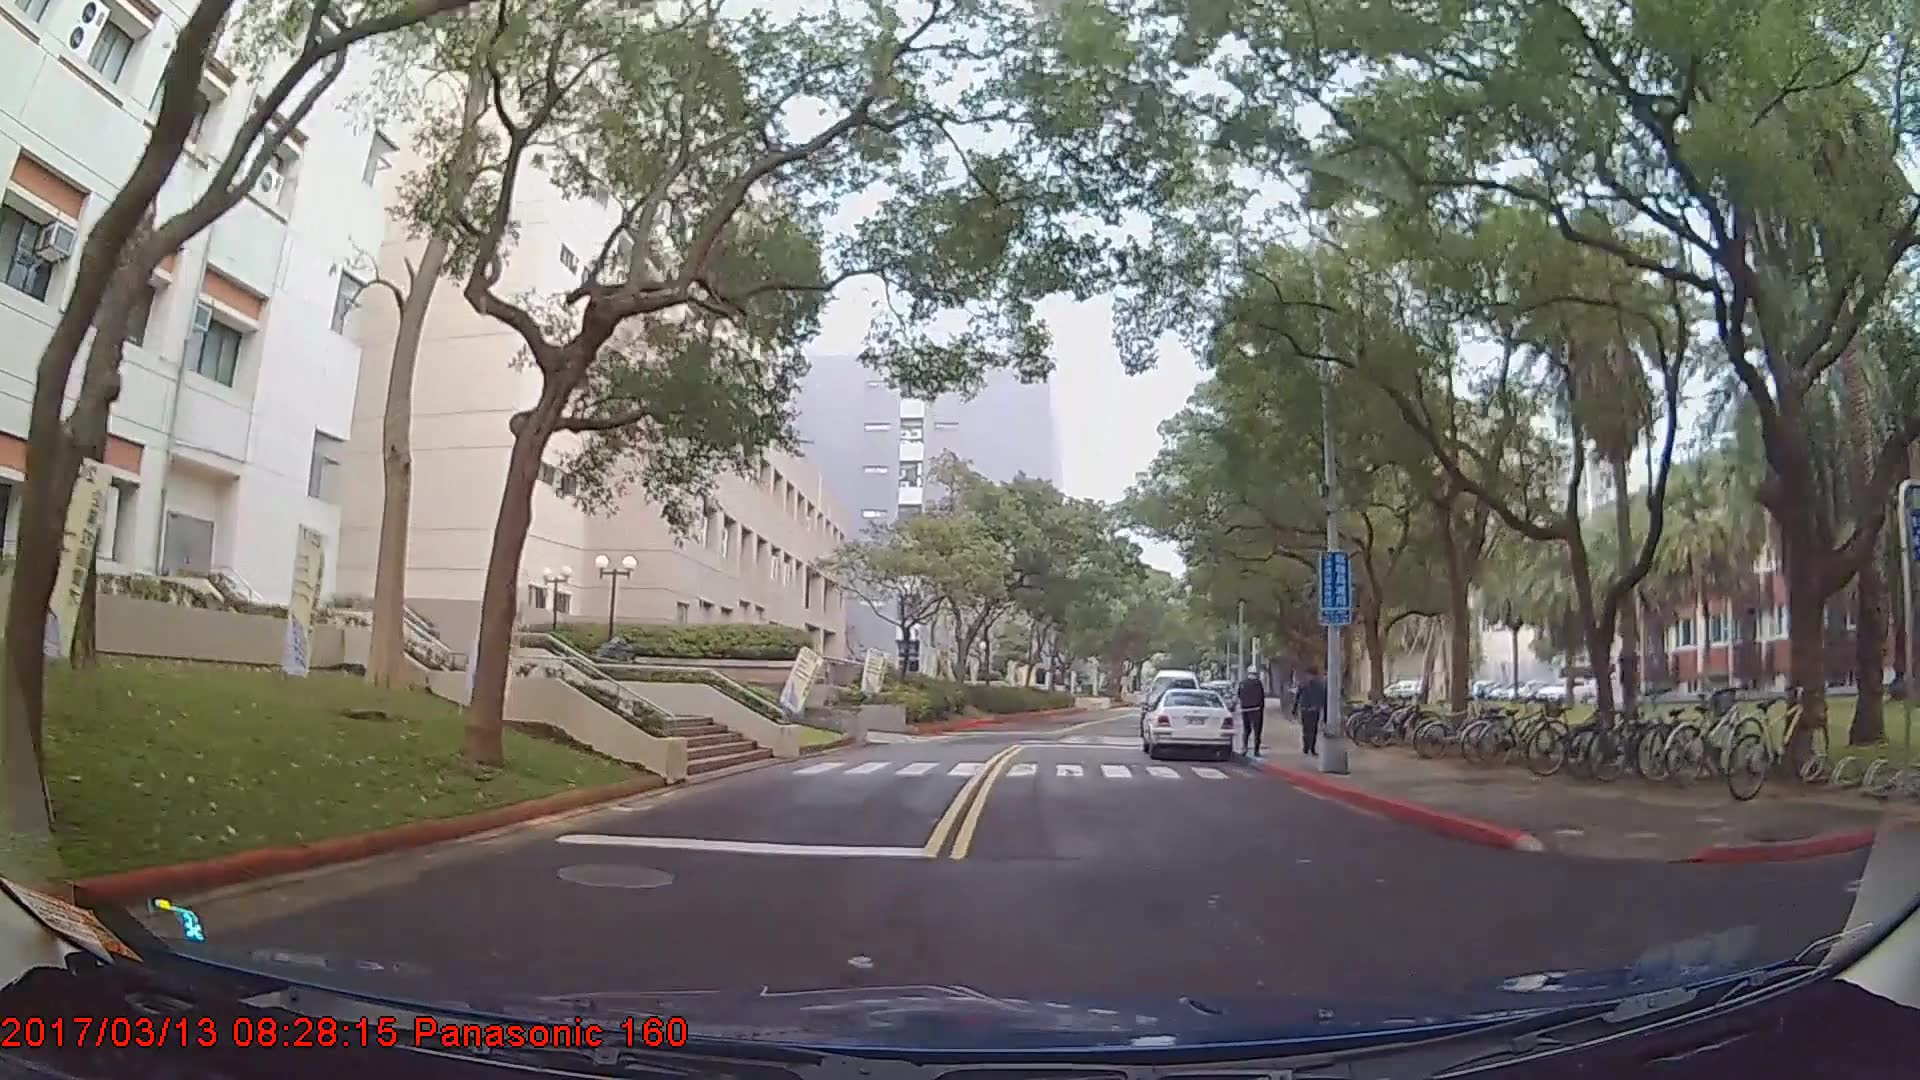pedestrian: (1294, 665, 1333, 756), (1238, 664, 1268, 758)
vehicle: (1138, 685, 1236, 764)
